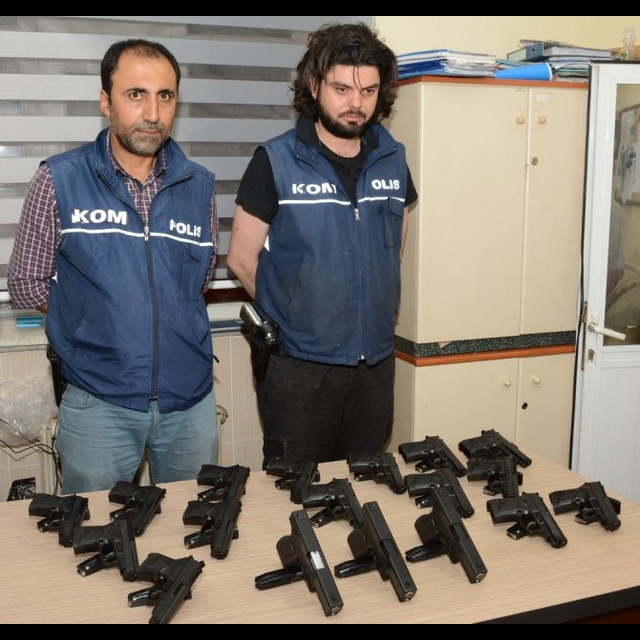SILAH: (275, 507, 344, 618), (347, 501, 417, 607), (413, 492, 488, 584), (487, 494, 566, 549), (551, 475, 624, 533), (177, 499, 243, 557)
